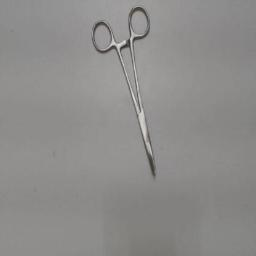Crile Artery Forceps: (88, 0, 160, 182)
